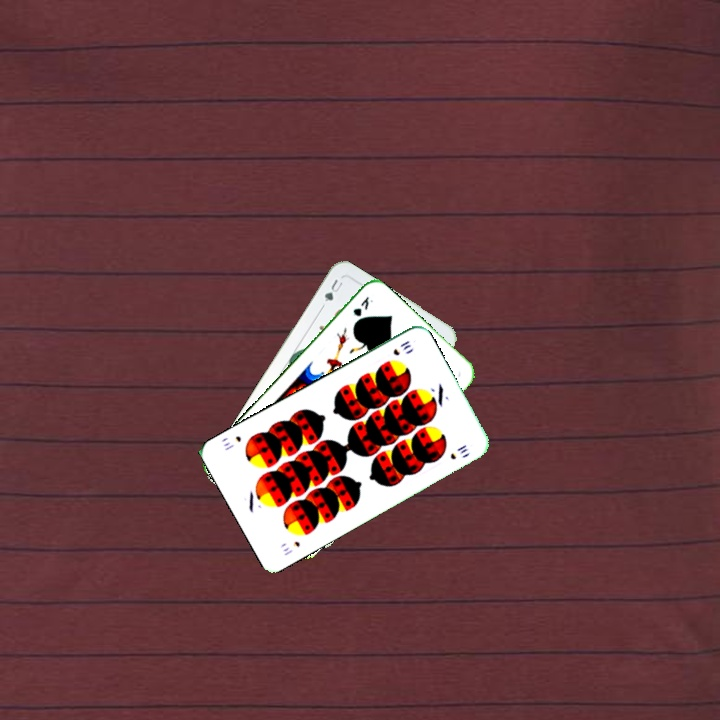GK: (349, 292, 375, 319)
GU: (320, 275, 345, 304)
S10: (389, 336, 414, 358), (279, 537, 302, 558)
